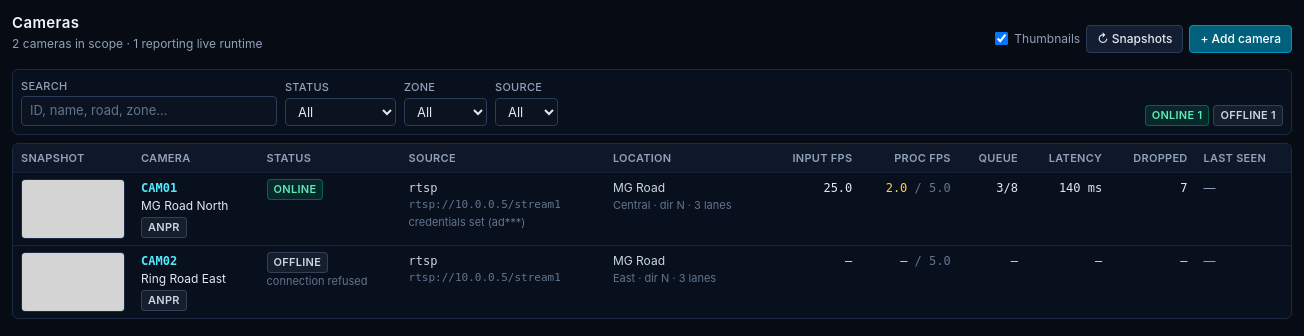
Scenario: Cameras page › renders cameras with live runtime, filters, and updates on camera_status_changed
Expected: the text "Ring Road East" is shown, x1=141 y1=271 x2=226 y2=286
Expected: the text "MG Road North" is shown, x1=141 y1=198 x2=228 y2=213
Select "OFFLINE (1)" in the dropdown named "Status filter" at x=340, y=112, box x1=285 y1=98 x2=396 y2=126
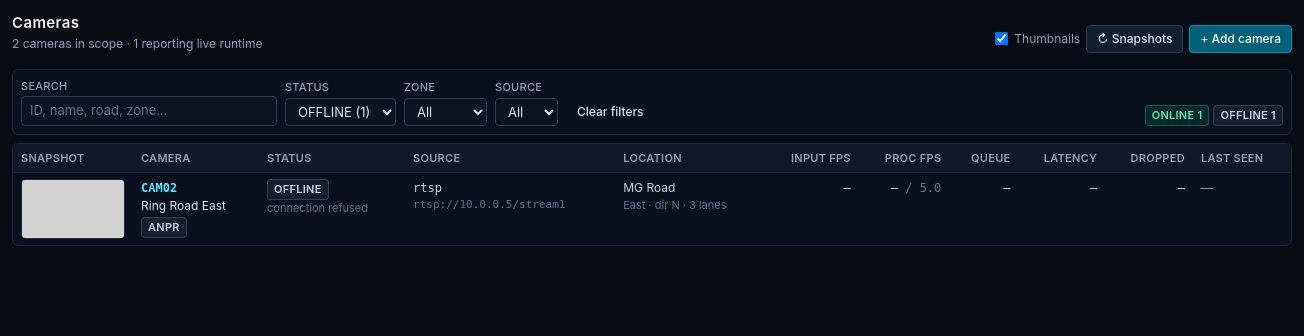
Expected: the text "Ring Road East" is shown, x1=141 y1=198 x2=226 y2=213
Expected: the text "MG Road North" is gone
Click the button "Clear filters" at x=610, y=112, box x1=566 y1=98 x2=655 y2=126
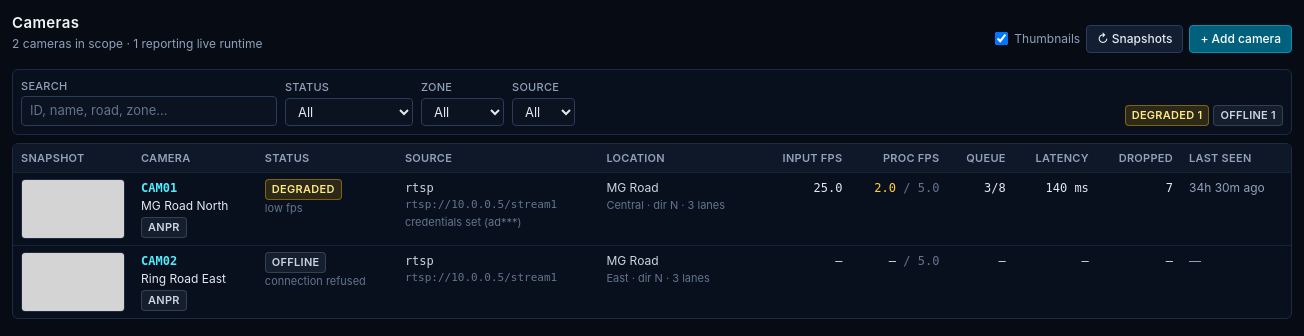
Expected: the text "MG Road North" is shown, x1=141 y1=198 x2=228 y2=213
Expected: the text "low fps" is shown, x1=265 y1=200 x2=303 y2=214
